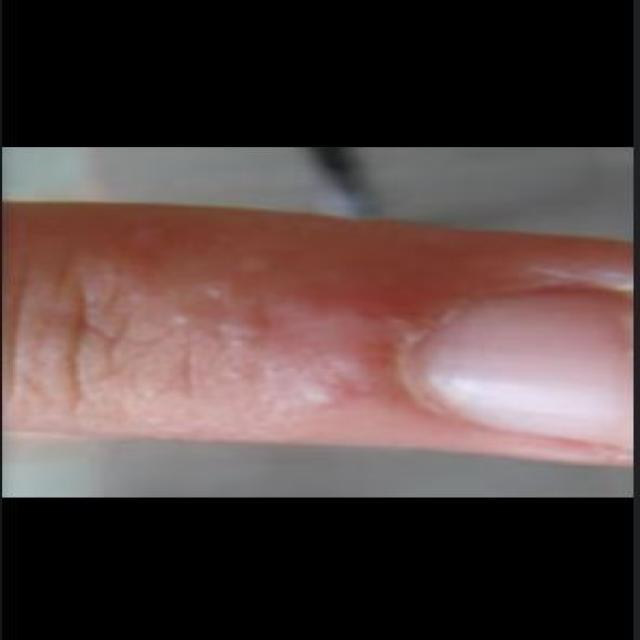Eczema: (126, 211, 448, 421)
